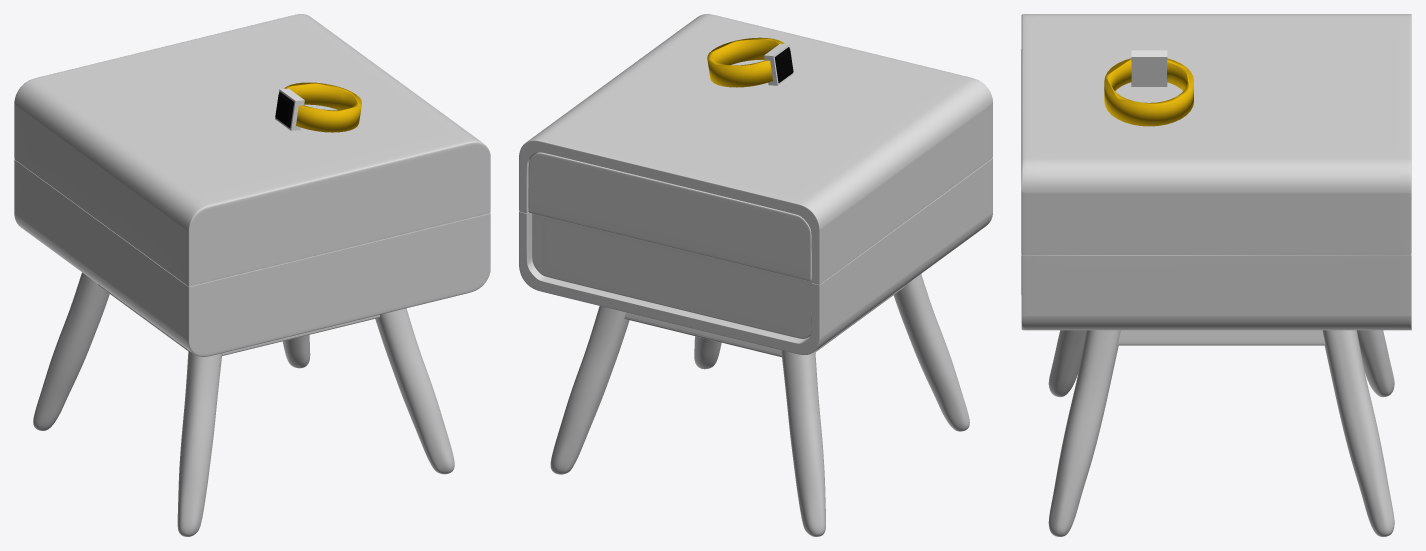
The model's file is drømmefanger 3.fbx.
3 renders of one model, left to right at view 1: azimuth 30°, elevation 25°; view 2: azimuth 150°, elevation 25°; view 3: azimuth 270°, elevation 25°, orthographic. The views are drawn at different scales.
Visible parts, largest first — view 1: Bedside table cabinet, Cylinder; view 2: Bedside table cabinet, Cylinder; view 3: Bedside table cabinet, Cylinder, Cube.001.
Boxes of the visible parts, x1,y1,x2,y2 form: Bedside table cabinet: [14, 14, 490, 536]; Cylinder: [284, 82, 361, 132]; Bedside table cabinet: [519, 14, 992, 536]; Cylinder: [707, 37, 784, 87]; Bedside table cabinet: [1021, 14, 1411, 536]; Cylinder: [1104, 58, 1193, 126]; Cube.001: [1131, 50, 1167, 86].
Size of the model in its own units: 330 by 331 by 394.
